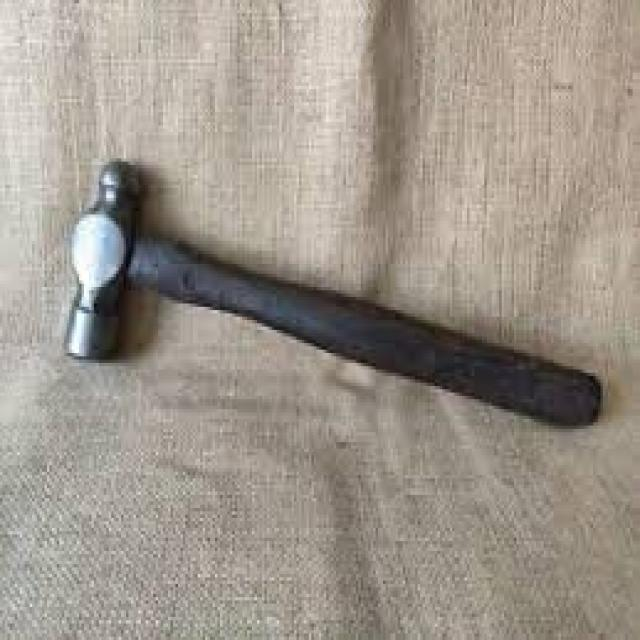hammer: (56, 148, 606, 436)
